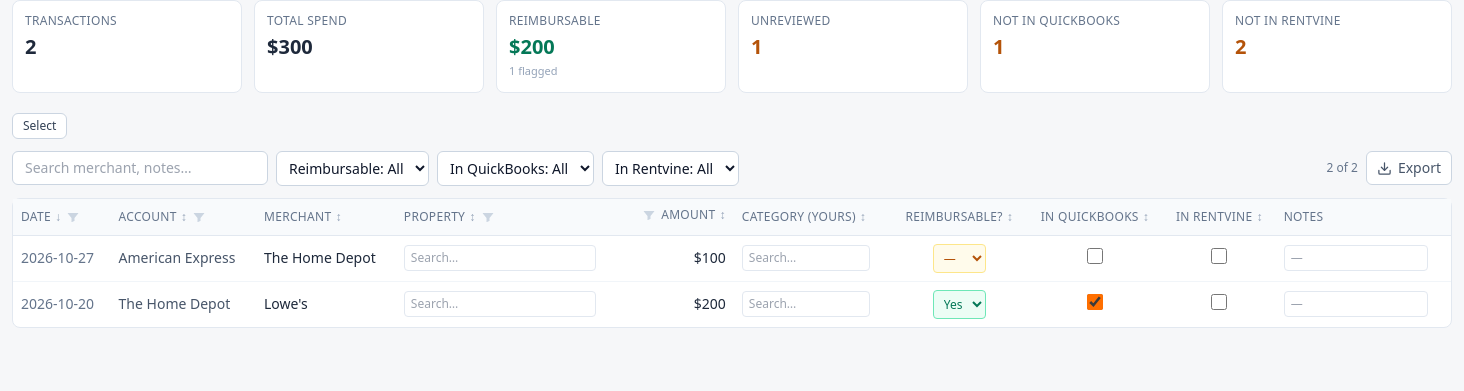
Test: TransactionsTable › bulk reimbursable › rolls every row back if the bulk save fails
Click the button "Select": (40, 126) [12,112,67,138]
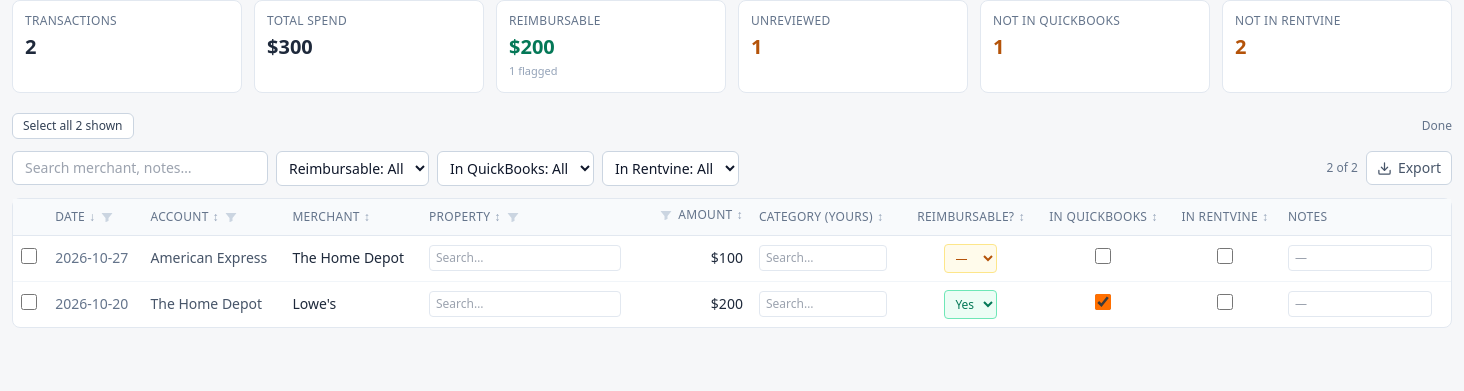
Click the checkbox named "select-t1": (29, 256) [21,248,37,264]
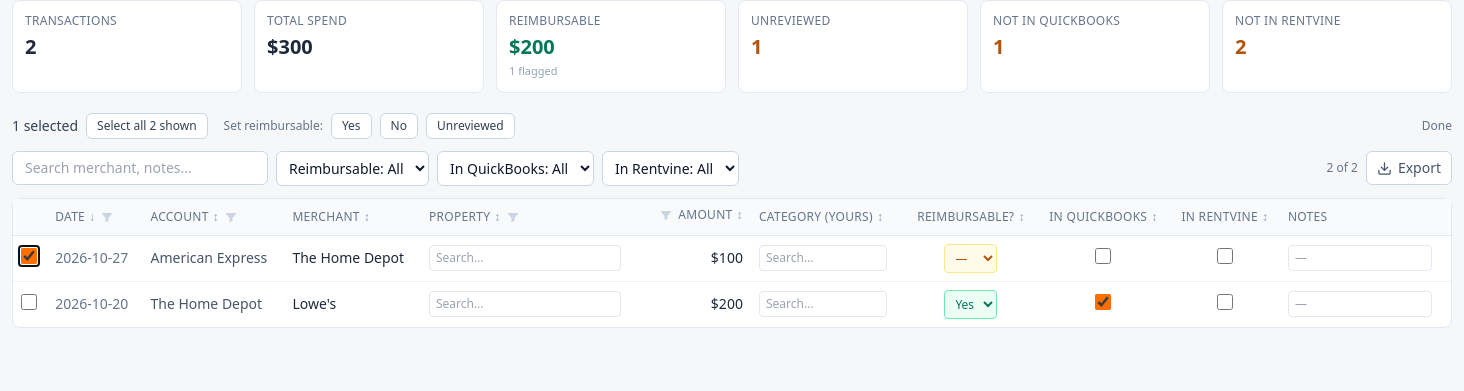
Click the button with aria-label "set reimbursable: no": (399, 126) [380,112,418,138]
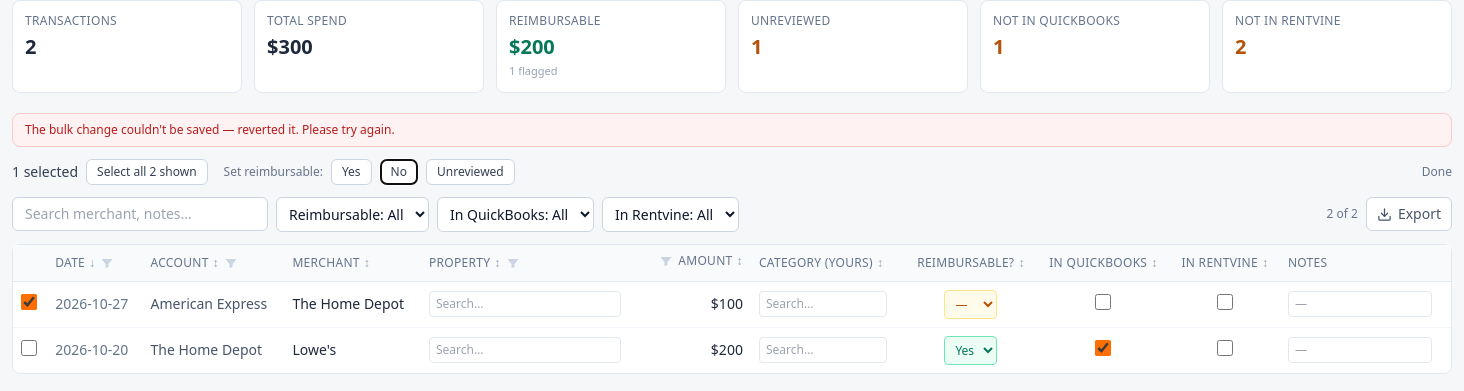
Expected: the dropdown named "reimbursable-t1" shows "—", [944,290,997,318]
Result: the text "couldn't be saved" is shown at [25,120,395,138]
